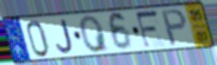0: (25, 19, 51, 59)
6: (106, 11, 134, 53)
F: (134, 8, 161, 51)
J: (55, 18, 75, 55)
P: (160, 8, 189, 48)
Q: (77, 14, 111, 54)
